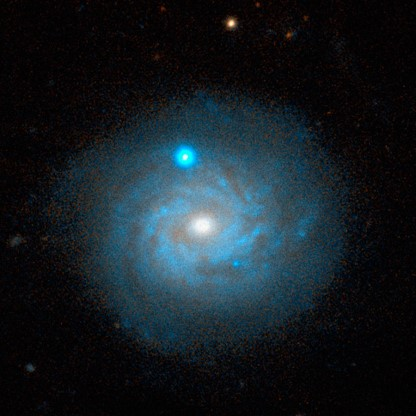NGC 3982: (49, 103, 352, 353)
